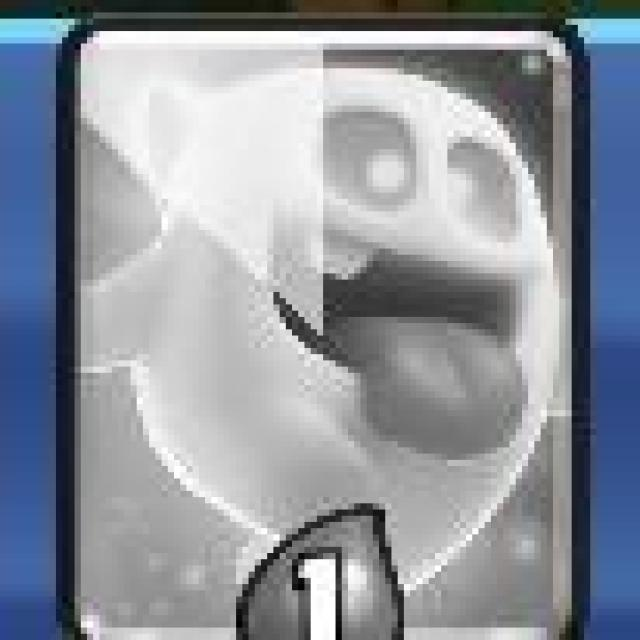Heal_Spirit: (61, 17, 581, 640)
